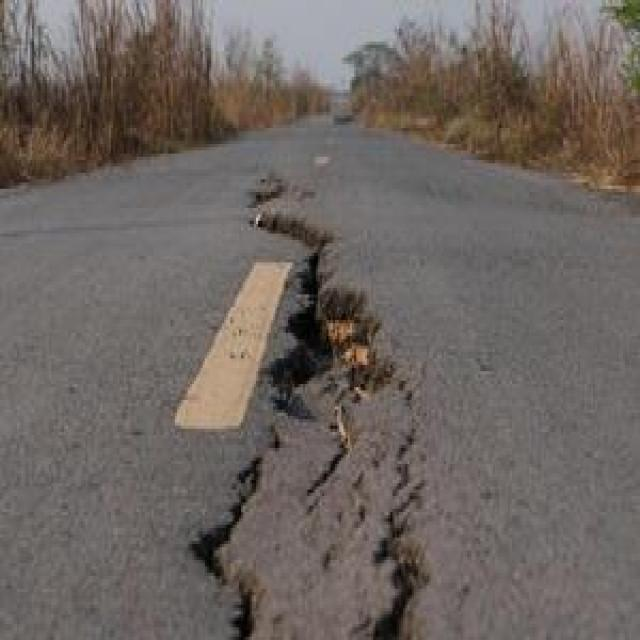road collapse: (149, 118, 502, 640)
